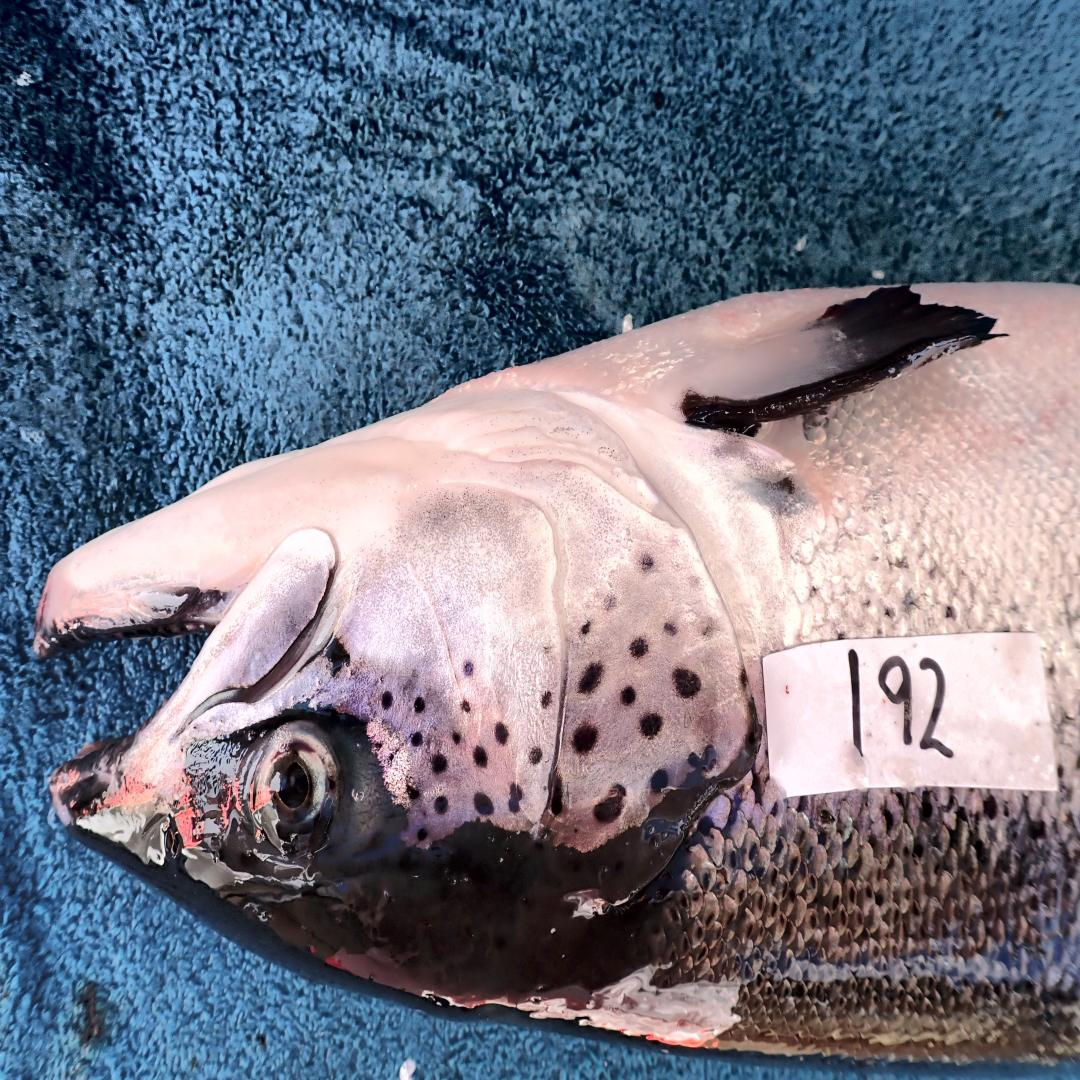spot: (593, 785, 626, 824), (673, 669, 700, 698), (578, 664, 603, 695), (572, 723, 597, 754), (688, 744, 719, 769), (639, 712, 662, 740), (551, 776, 563, 816), (650, 768, 669, 793), (475, 793, 494, 816), (508, 785, 523, 813), (636, 553, 654, 575), (472, 745, 487, 768), (631, 638, 648, 658), (404, 784, 421, 804), (430, 754, 447, 773), (620, 686, 635, 706), (496, 723, 508, 745), (529, 745, 542, 765), (664, 620, 678, 638), (435, 796, 447, 816), (540, 692, 551, 709), (411, 731, 424, 745), (463, 660, 473, 678), (604, 594, 616, 609), (382, 692, 392, 709), (449, 730, 460, 745), (413, 698, 424, 712), (580, 622, 591, 636), (460, 701, 471, 714), (418, 827, 428, 841)
